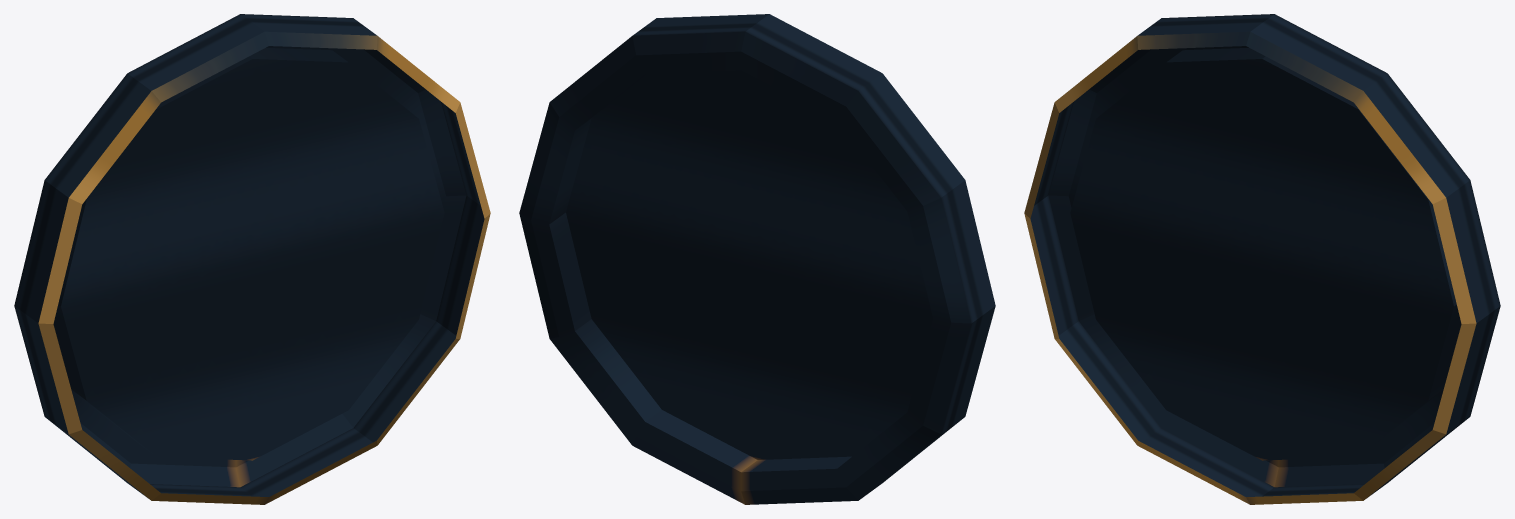
The model's file is SOD)Clock_Asset.fbx.
3 views of the same model, side by side, from view 1: azimuth 30°, elevation 25°; view 2: azimuth 150°, elevation 25°; view 3: azimuth 330°, elevation 25° (orthographic).
Visible parts, largest first — view 1: SOD_Clock_Asset; view 2: SOD_Clock_Asset; view 3: SOD_Clock_Asset.
Part boxes in pixels (x1=…): SOD_Clock_Asset: x1=14, y1=14, x2=490, y2=504; SOD_Clock_Asset: x1=519, y1=14, x2=995, y2=504; SOD_Clock_Asset: x1=1024, y1=14, x2=1500, y2=504.
Bounding box in the file's own units: 32.15 × 32.15 × 4.04.
Materials: 1 (1 with a texture image).
